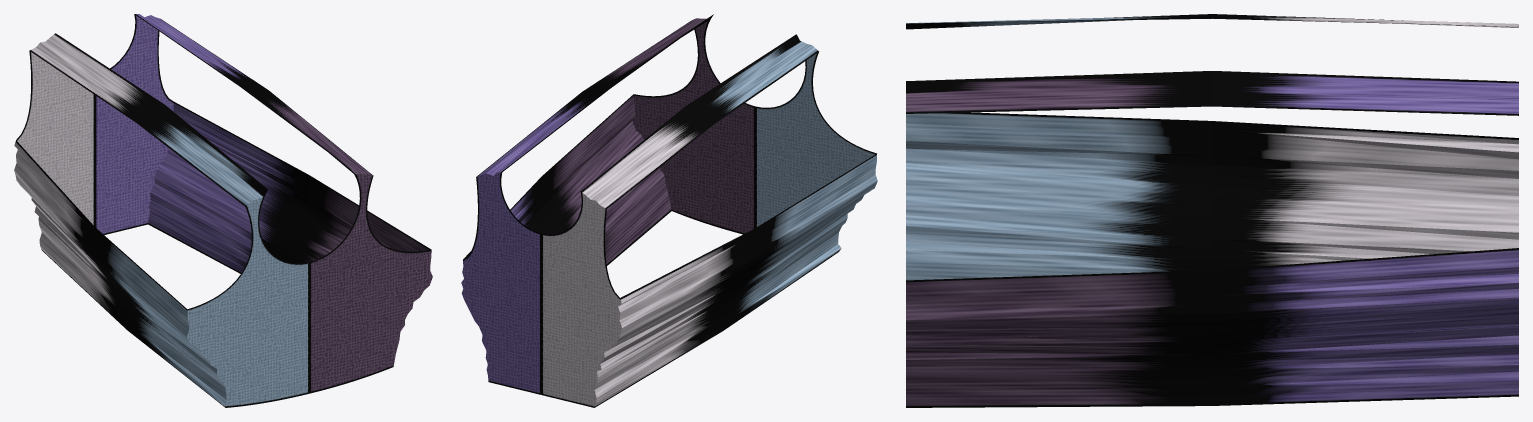
File: tank_knit4_c65m_boxmesh.obj
3 renders of one model, left to right at view 1: azimuth 30°, elevation 25°; view 2: azimuth 150°, elevation 25°; view 3: azimuth 270°, elevation 25°, orthographic. The views are drawn at different scales.
Bounding box in the file's own units: 36.42 × 31.16 × 55.
1 material, 1 textured.
